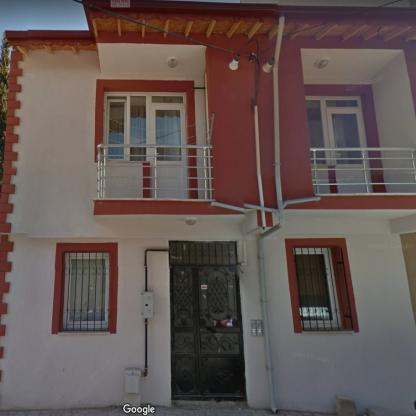door: (170, 265, 245, 401), (326, 109, 372, 192), (151, 106, 188, 198)
window: (104, 92, 186, 160), (294, 248, 341, 327), (307, 98, 361, 164), (63, 252, 107, 331), (168, 242, 236, 264)
